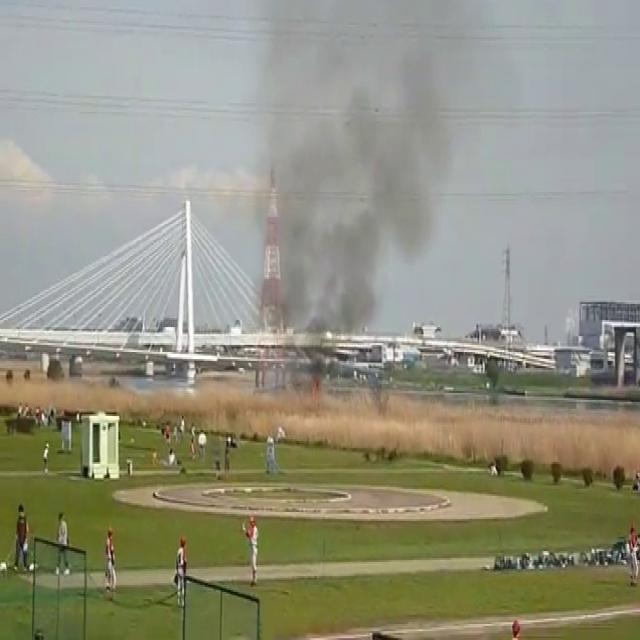Smoke: (218, 2, 628, 326), (219, 0, 481, 325)
